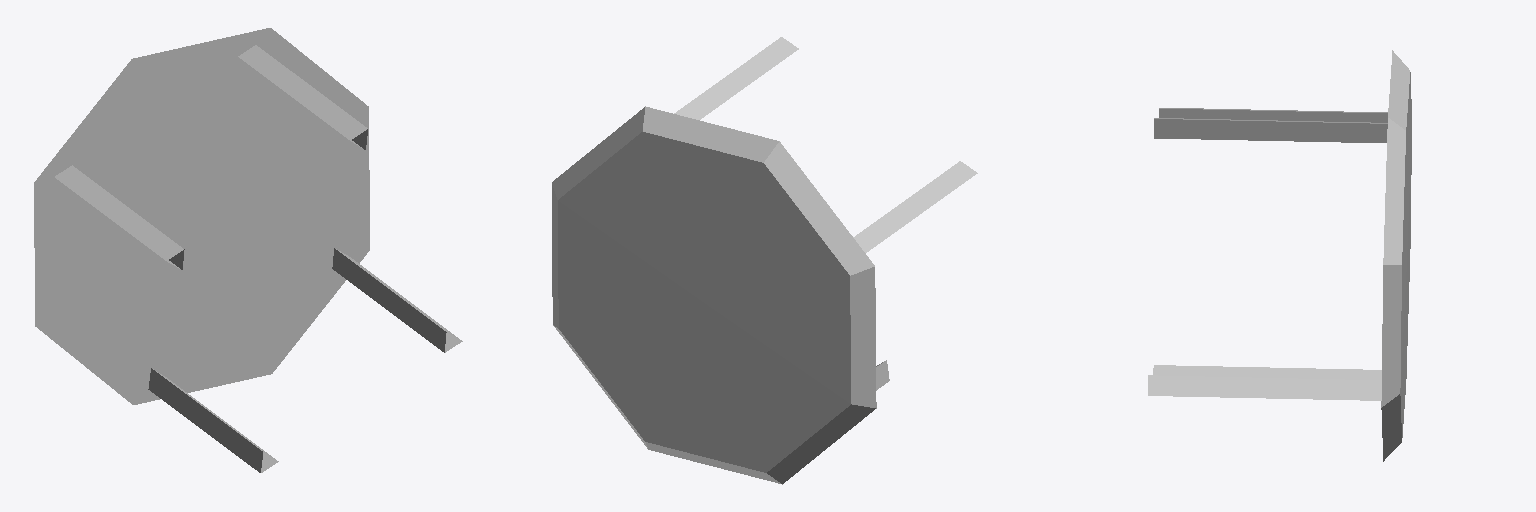
File: polygon3.001.obj
The picture shows the model from 3 angles: view 1: azimuth 30°, elevation 25°; view 2: azimuth 150°, elevation 25°; view 3: azimuth 270°, elevation 25°; orthographic projection.
Visible parts, largest first — view 1: tugboat.003; view 2: tugboat.003; view 3: tugboat.003.
Part boxes in pixels (bbox=[...]): tugboat.003: bbox=[34, 28, 462, 472]; tugboat.003: bbox=[552, 37, 977, 484]; tugboat.003: bbox=[1148, 50, 1411, 461].
Bounding box in the file's own units: 10.55 × 10.55 × 7.33.